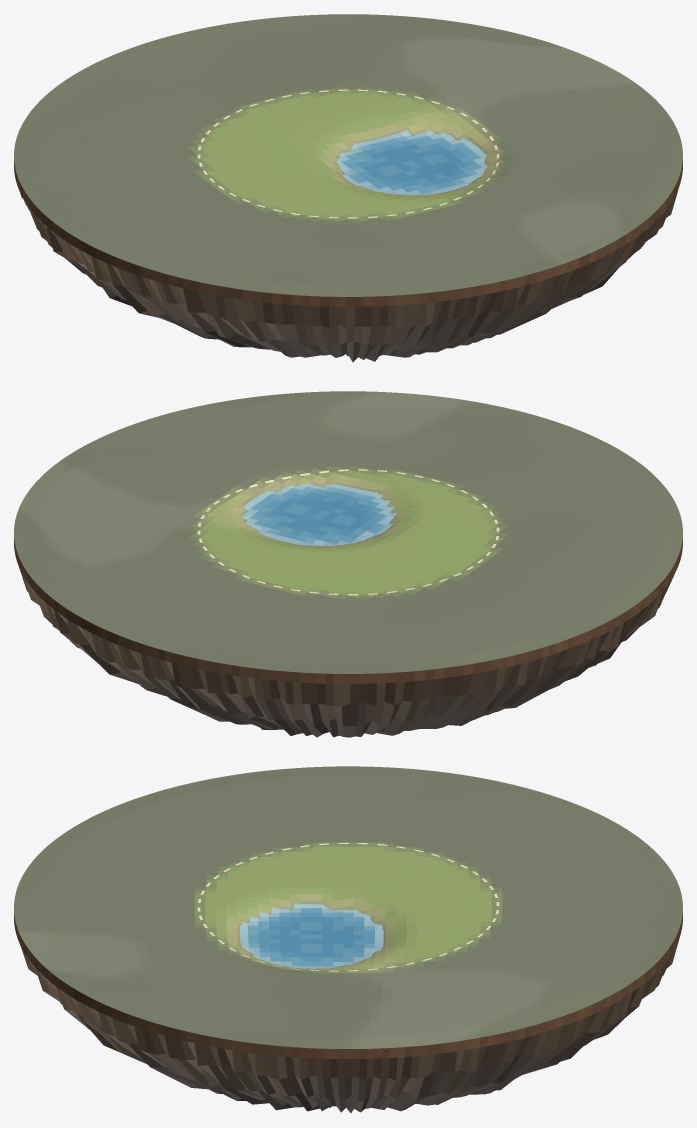
Rendered from pond.glb.
3 views of the same model, one above another, from view 1: azimuth 30°, elevation 25°; view 2: azimuth 150°, elevation 25°; view 3: azimuth 270°, elevation 25° (orthographic).
Visible parts, largest first — view 1: TER_Surface, TER_Rock, TER_Water, TER_UnlockBorder; view 2: TER_Surface, TER_Rock, TER_Water, TER_UnlockBorder; view 3: TER_Surface, TER_Rock, TER_Water, TER_UnlockBorder.
Part boxes in pixels (x1,y1,x2,y2): TER_Surface: (14,14,682,296); TER_Rock: (14,160,682,362); TER_Water: (336,130,487,195); TER_UnlockBorder: (197,89,499,218); TER_Surface: (14,391,682,673); TER_Rock: (14,537,682,737); TER_Water: (242,483,397,545); TER_UnlockBorder: (197,469,499,595); TER_Surface: (14,766,682,1048); TER_Rock: (14,913,682,1112); TER_Water: (239,904,383,968); TER_UnlockBorder: (197,842,499,971).
Size of the model in its own units: 15.2 by 4.36 by 15.2.
